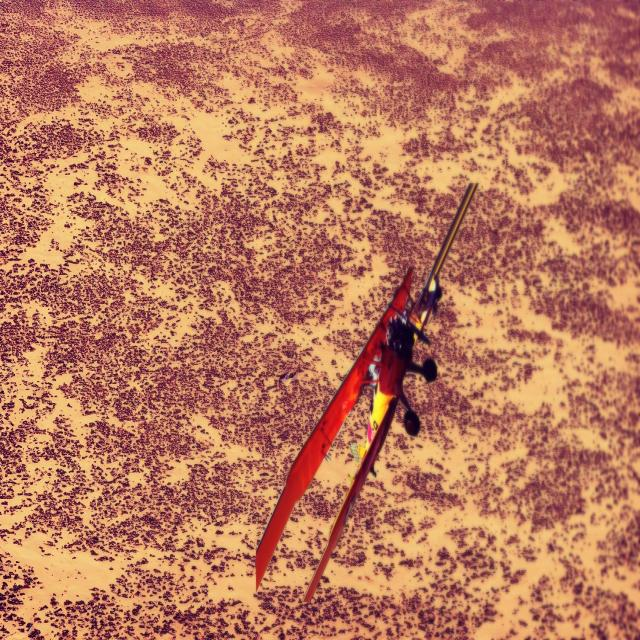airplane: (254, 180, 479, 605)
